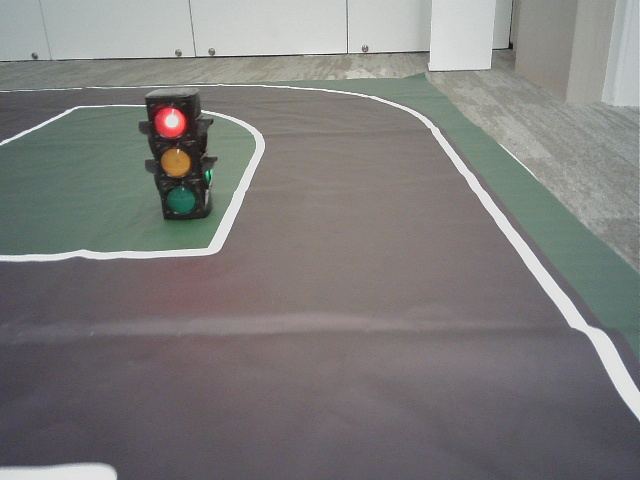red: (150, 100, 202, 214)
